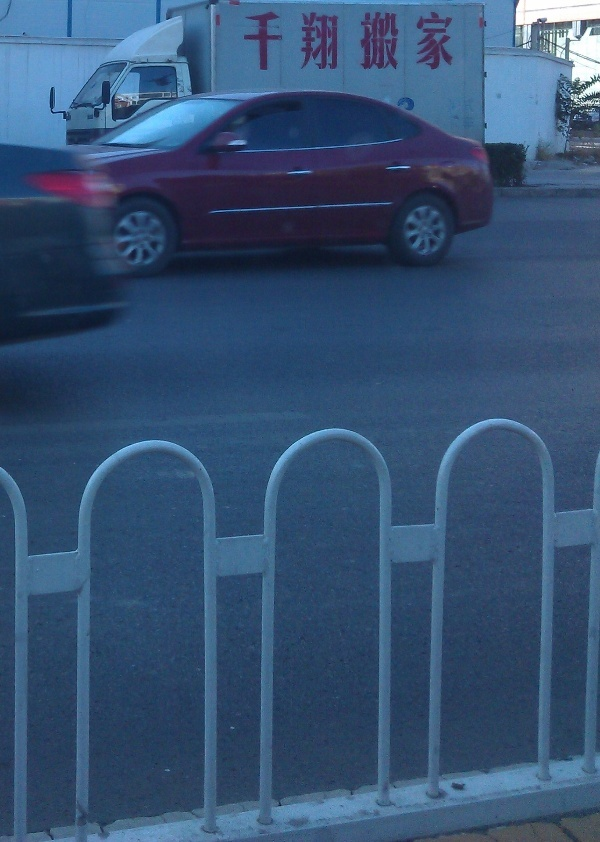text: (257, 10, 272, 72), (273, 10, 288, 72), (289, 10, 304, 72), (305, 10, 320, 72), (321, 10, 336, 72), (337, 10, 352, 72), (353, 10, 368, 72), (369, 10, 384, 72), (385, 10, 400, 72), (401, 10, 416, 72), (417, 10, 432, 72), (433, 10, 448, 72), (243, 10, 256, 72), (449, 10, 455, 72)
